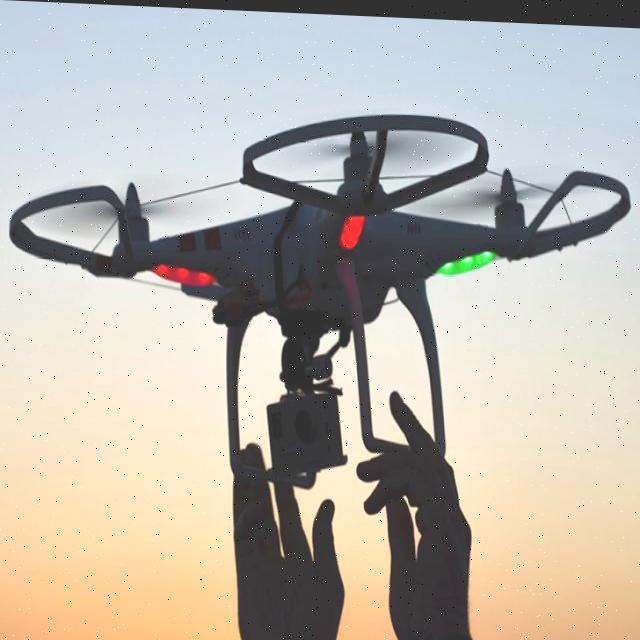drone: (2, 88, 638, 382)
